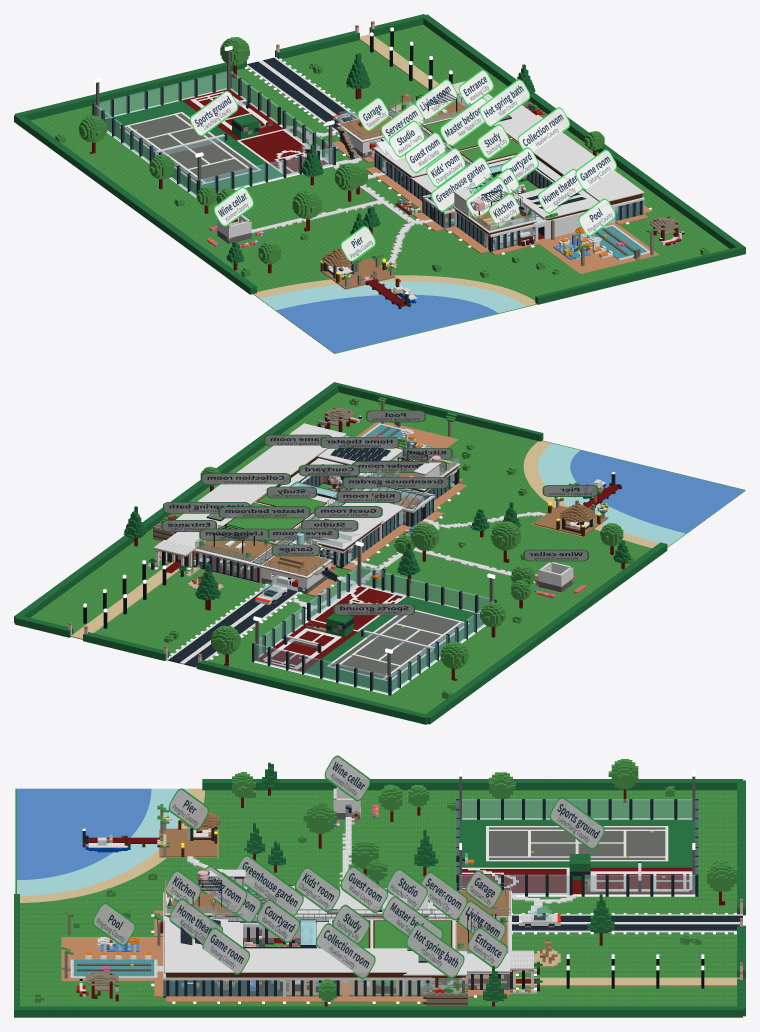
The model's file is mansion-lego-en-EZeoMj9O.glb.
3 views of the same model, one above another, from view 1: azimuth 30°, elevation 25°; view 2: azimuth 150°, elevation 25°; view 3: azimuth 270°, elevation 25° (orthographic). The views are drawn at different scales.
Size of the model in its own units: 0.1867 by 0.0195 by 0.25.
161 materials, 73 textured.
